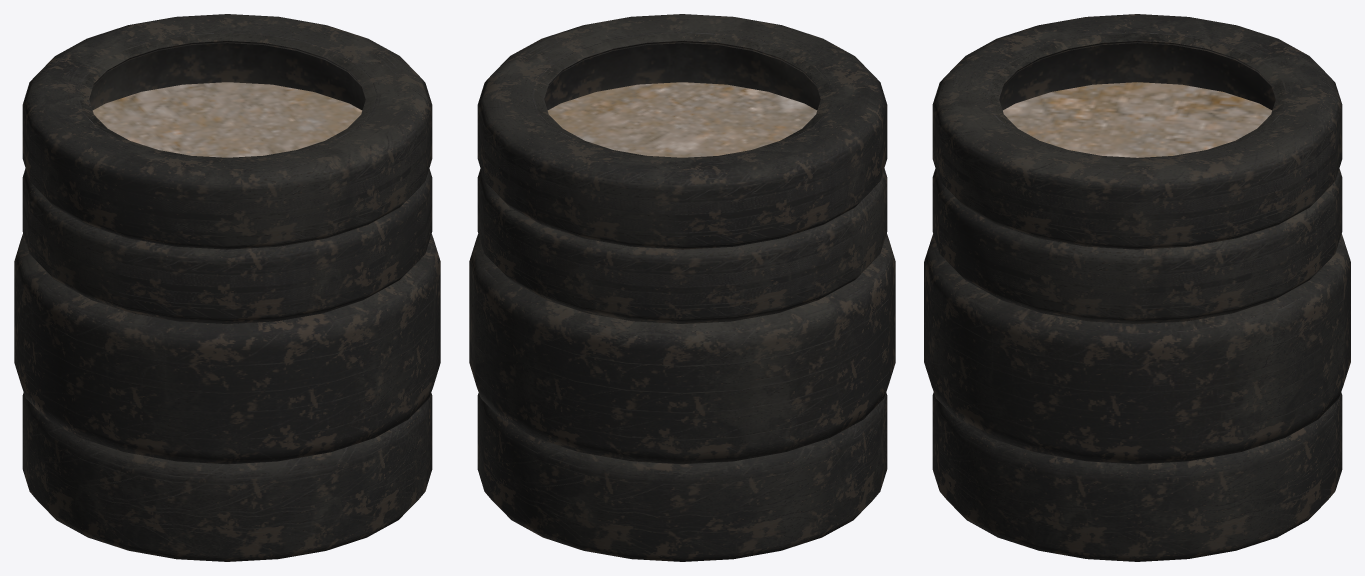
The model's file is TrTiresStackA2A.fbx.
The picture shows the model from 3 angles, left to right: view 1: azimuth 30°, elevation 25°; view 2: azimuth 150°, elevation 25°; view 3: azimuth 270°, elevation 25°; orthographic projection.
Visible parts, largest first — view 1: TrTiresStackA2A_LOD0; view 2: TrTiresStackA2A_LOD0; view 3: TrTiresStackA2A_LOD0.
Part boxes in pixels (x1,y1,x2,y2): TrTiresStackA2A_LOD0: [14, 14, 440, 561]; TrTiresStackA2A_LOD0: [469, 14, 895, 561]; TrTiresStackA2A_LOD0: [924, 14, 1350, 561].
Size of what is drawn, in the model's own units: 66.3 by 66.1 by 66.3.
Materials: 1 (1 with a texture image).
